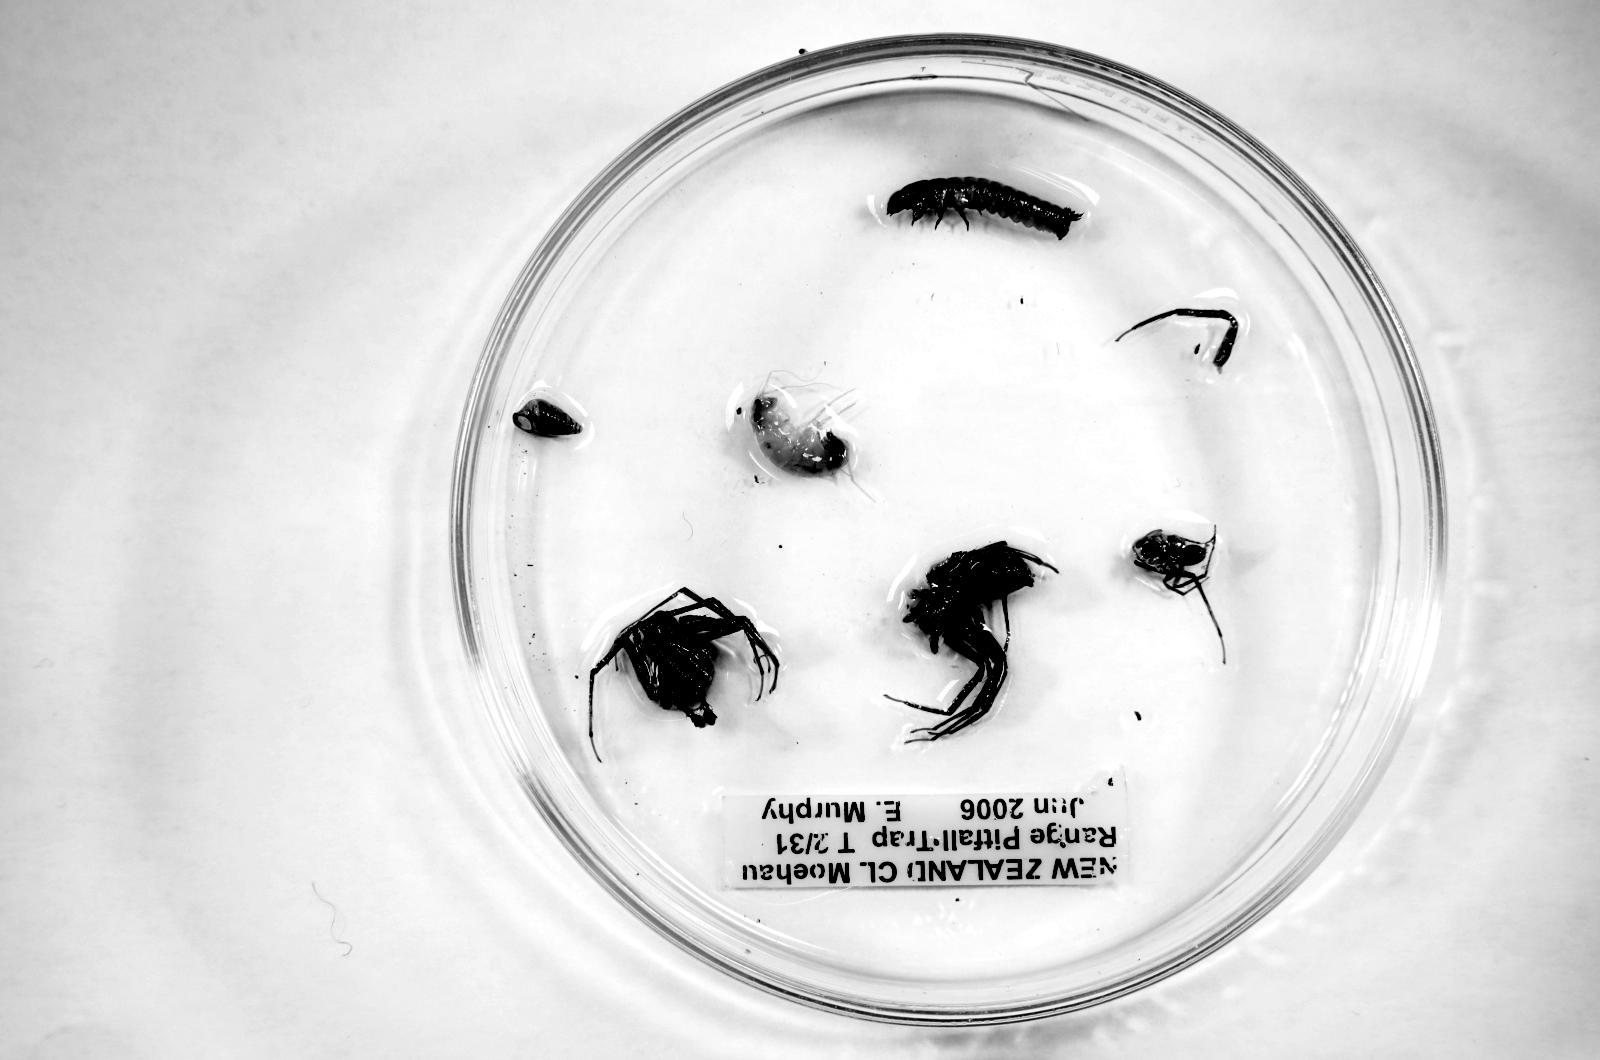amphipoda: (752, 394, 848, 476)
araneae: (887, 541, 1057, 743), (588, 587, 780, 761), (1132, 528, 1217, 628)
coleoptera_larva: (887, 177, 1081, 239)
gastropoda: (512, 396, 583, 438)
